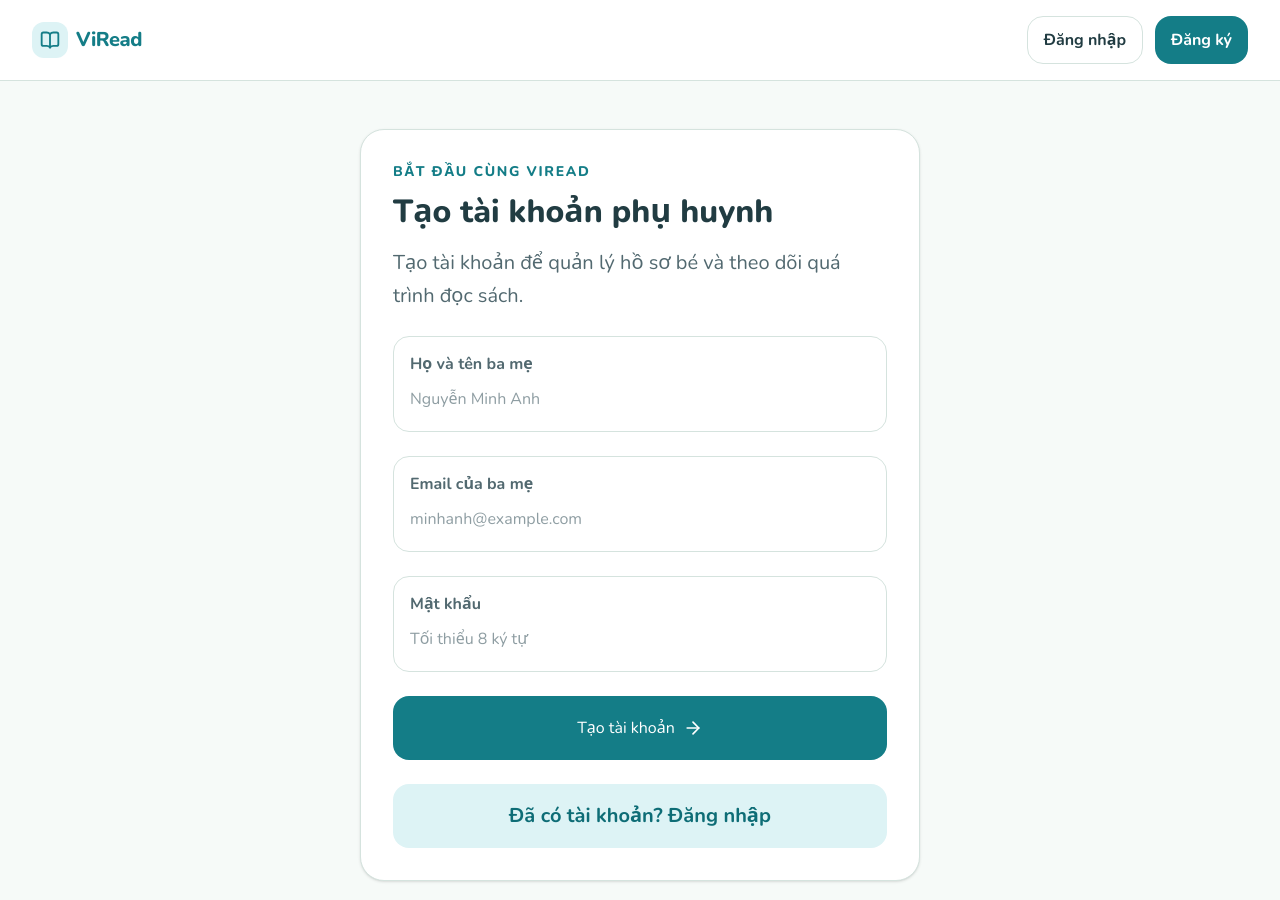
Registration duplicate-email regression › preserves check-email for new email
Type "Ba mẹ kiểm thử" into the field labelled "Họ và tên ba mẹ" at (640, 399), box [410,384,870,415]
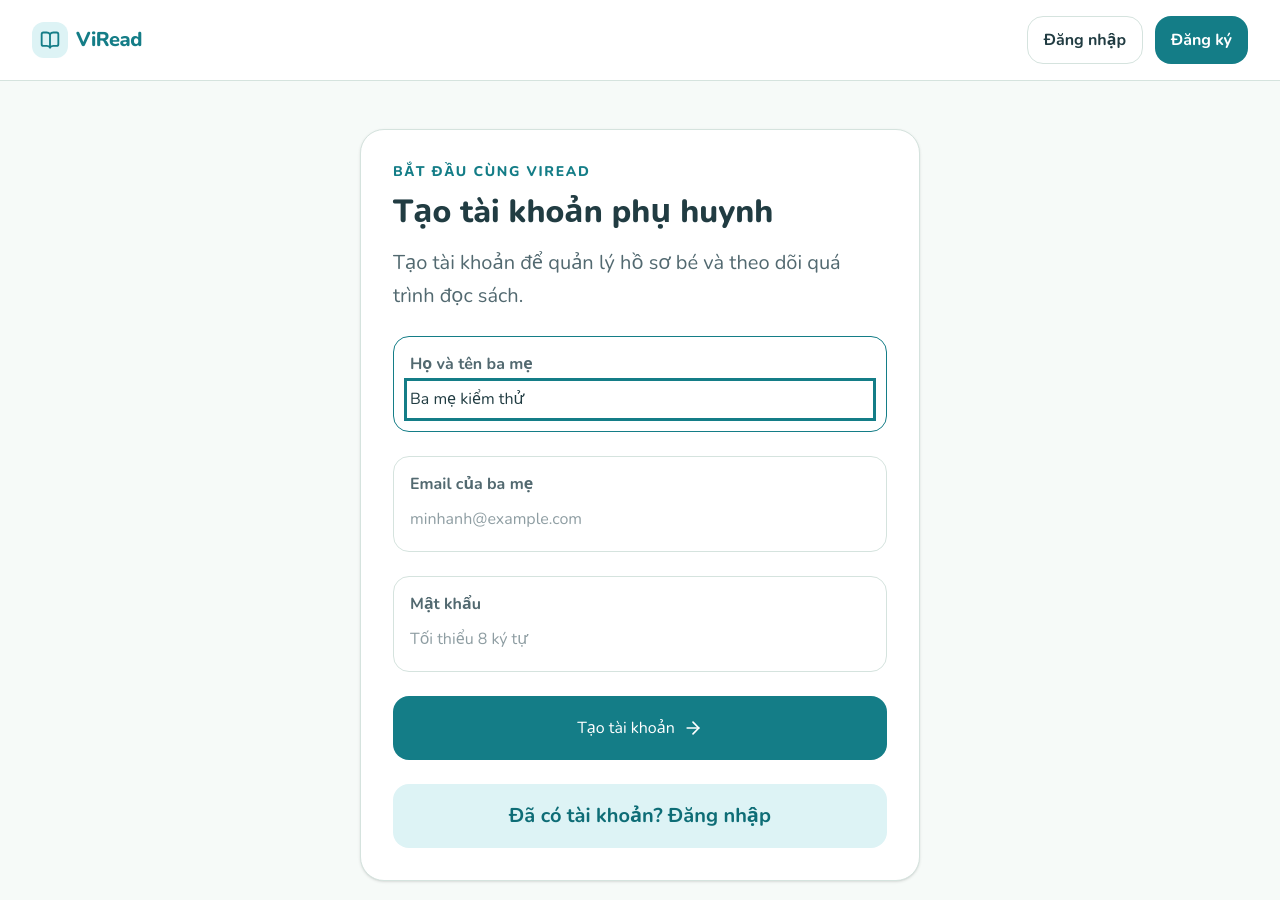
Type "parent@example.com" into the field labelled "Email của ba mẹ" at (640, 519), box [410,504,870,535]
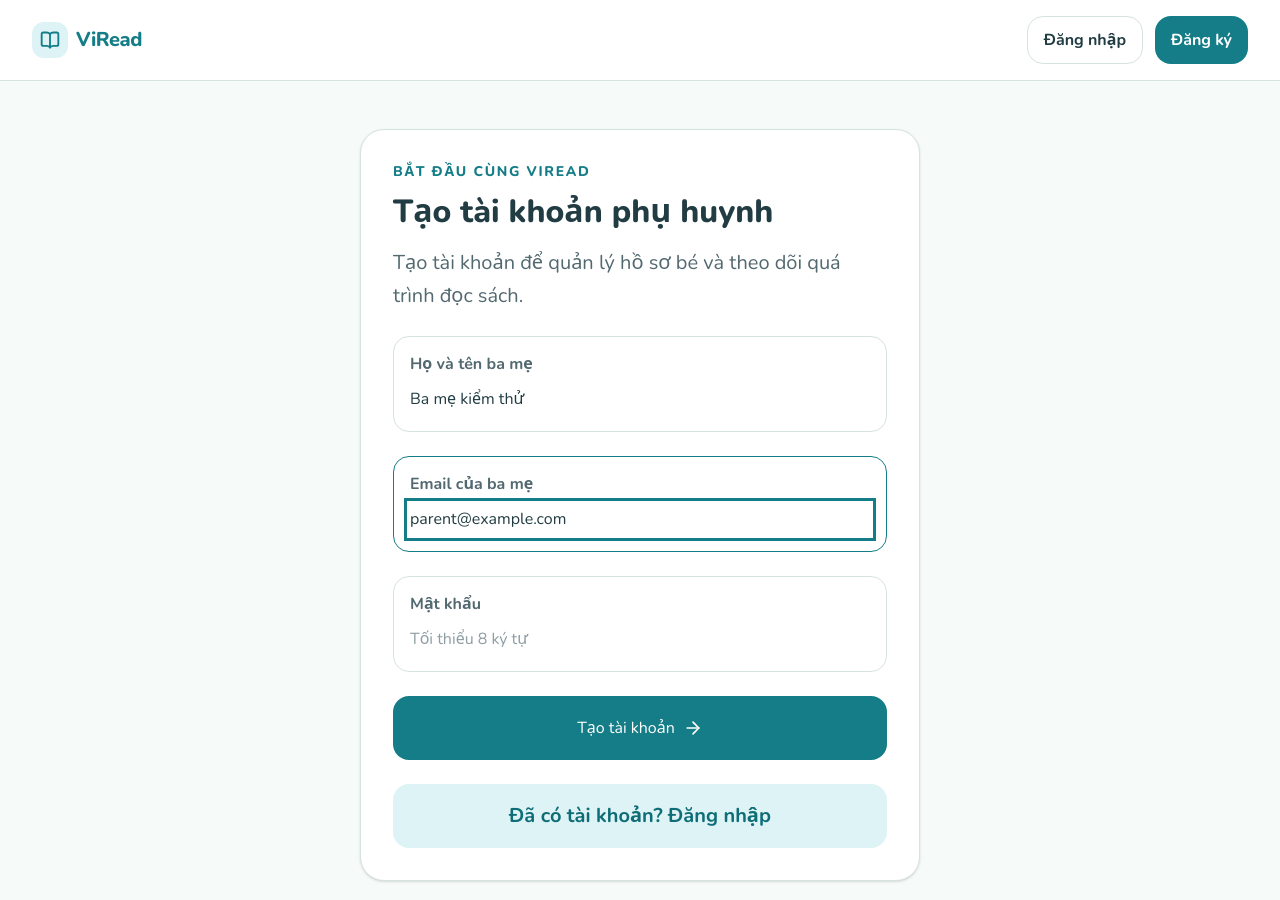
Type "test-password-123" into the password field labelled "Mật khẩu" at (640, 639), box [410,624,870,655]
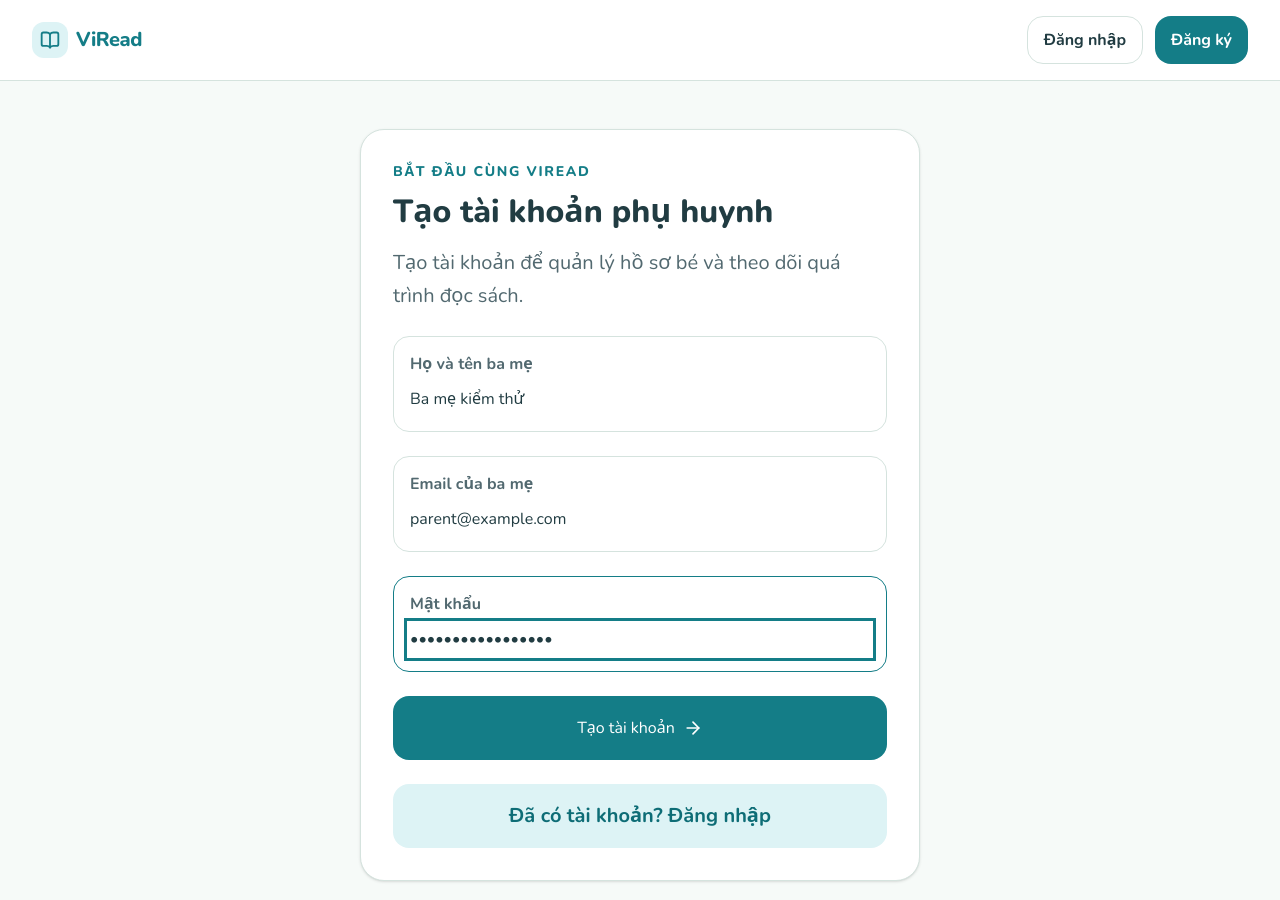
Click the button "Tạo tài khoản" at (640, 728), box [393,696,887,760]
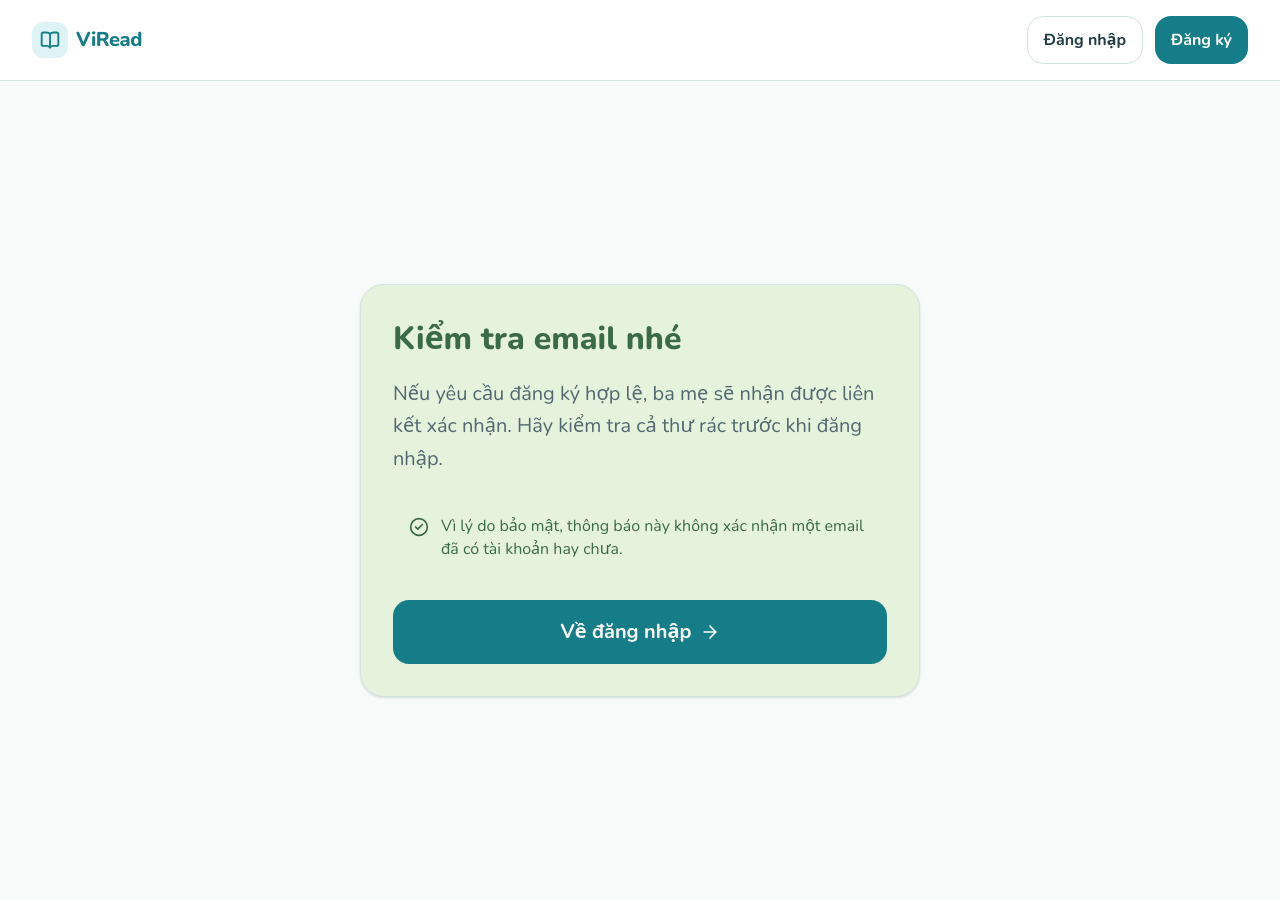
Now the heading "Kiểm tra email nhé" is shown, box [393,317,682,360]
